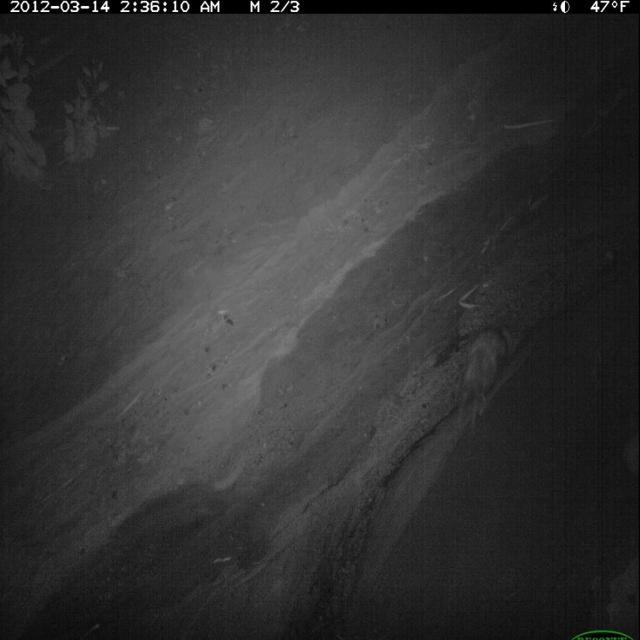opossum: (449, 321, 518, 443)
